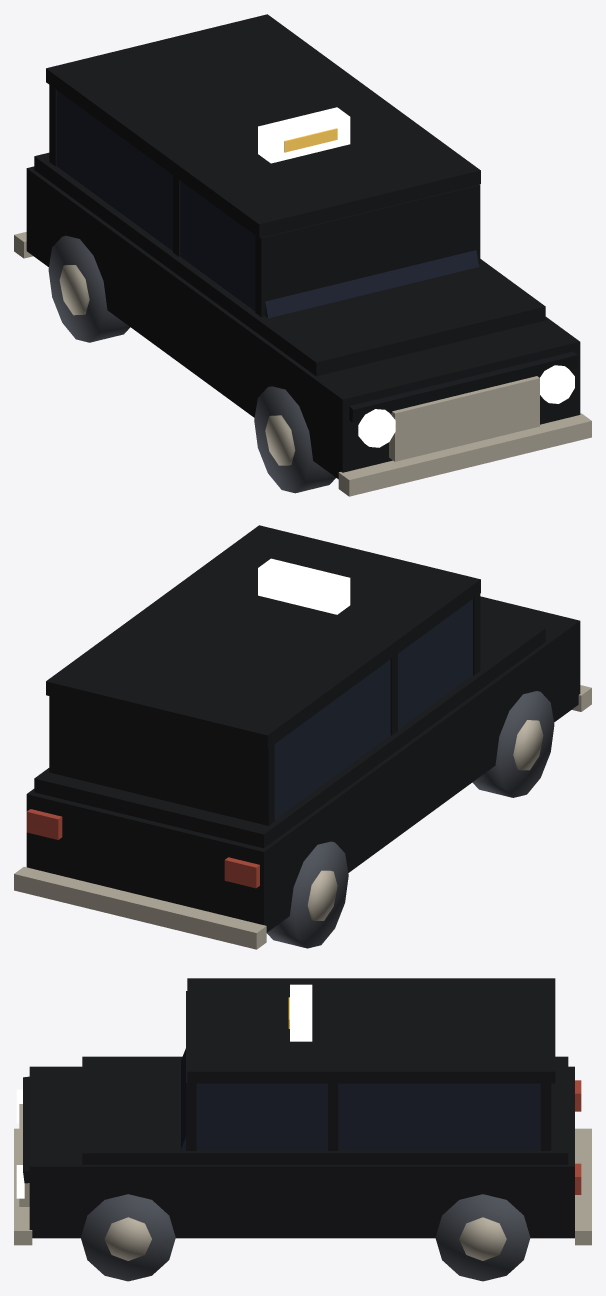
Rendered from cp_taxi.glb.
The picture shows the model from 3 angles, top to bottom: view 1: azimuth 30°, elevation 25°; view 2: azimuth 150°, elevation 25°; view 3: azimuth 270°, elevation 25°; orthographic projection. The views are drawn at different scales.
Visible parts, largest first — view 1: city_cp_taxi; view 2: city_cp_taxi; view 3: city_cp_taxi.
Part boxes in pixels (x1,y1,x2,y2): city_cp_taxi: (14,14,591,496); city_cp_taxi: (14,525,591,949); city_cp_taxi: (14,978,591,1281).
Bounding box in the file's own units: 1.9 × 1.92 × 4.4.
1 material, 1 textured.
